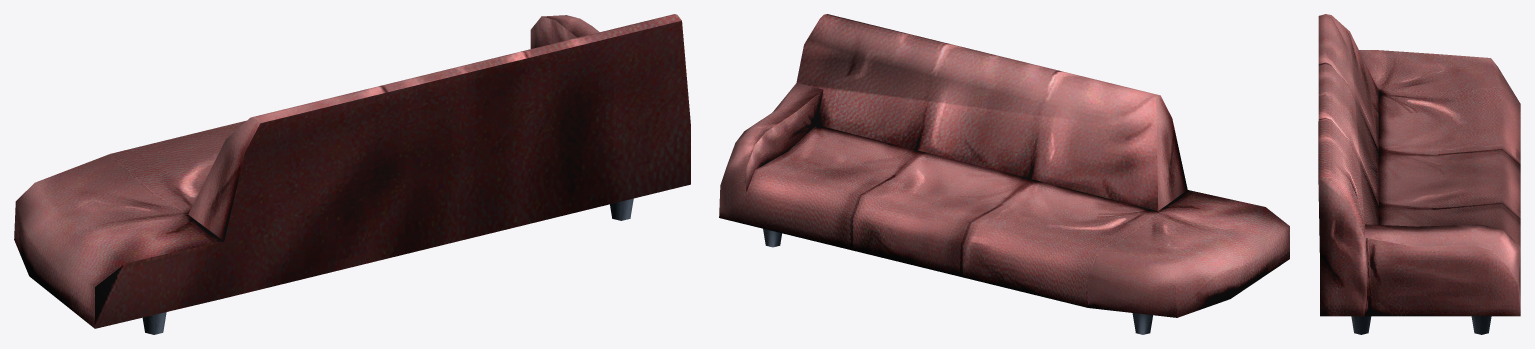
3 renders of one model, left to right at view 1: azimuth 30°, elevation 25°; view 2: azimuth 150°, elevation 25°; view 3: azimuth 270°, elevation 25°, orthographic. The views are drawn at different scales.
Parts seen in each view (by area): view 1: Box01; view 2: Box01; view 3: Box01.
Part boxes in pixels (left/top/right/bottom): Box01: left=14, top=14, right=690, bottom=334; Box01: left=719, top=14, right=1289, bottom=334; Box01: left=1318, top=14, right=1520, bottom=334.
Size of the model in its own units: 118 by 39.6 by 43.46.
Materials: 1 (1 with a texture image).
